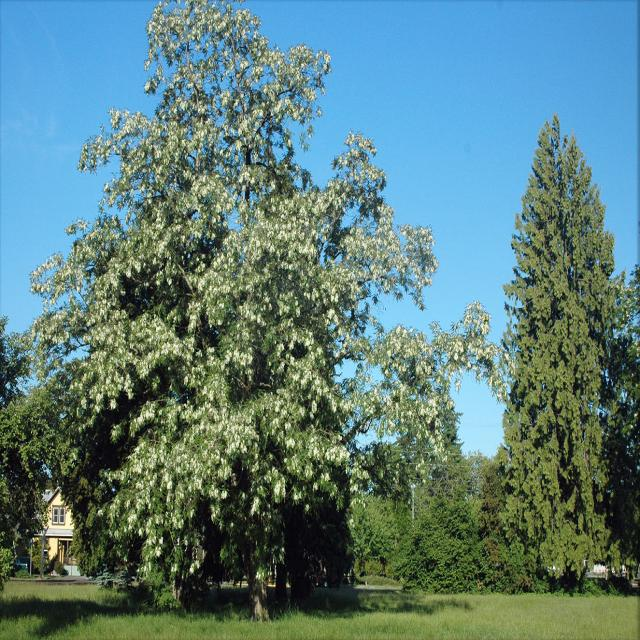Robinia pseudoacacia: (27, 0, 508, 587)
